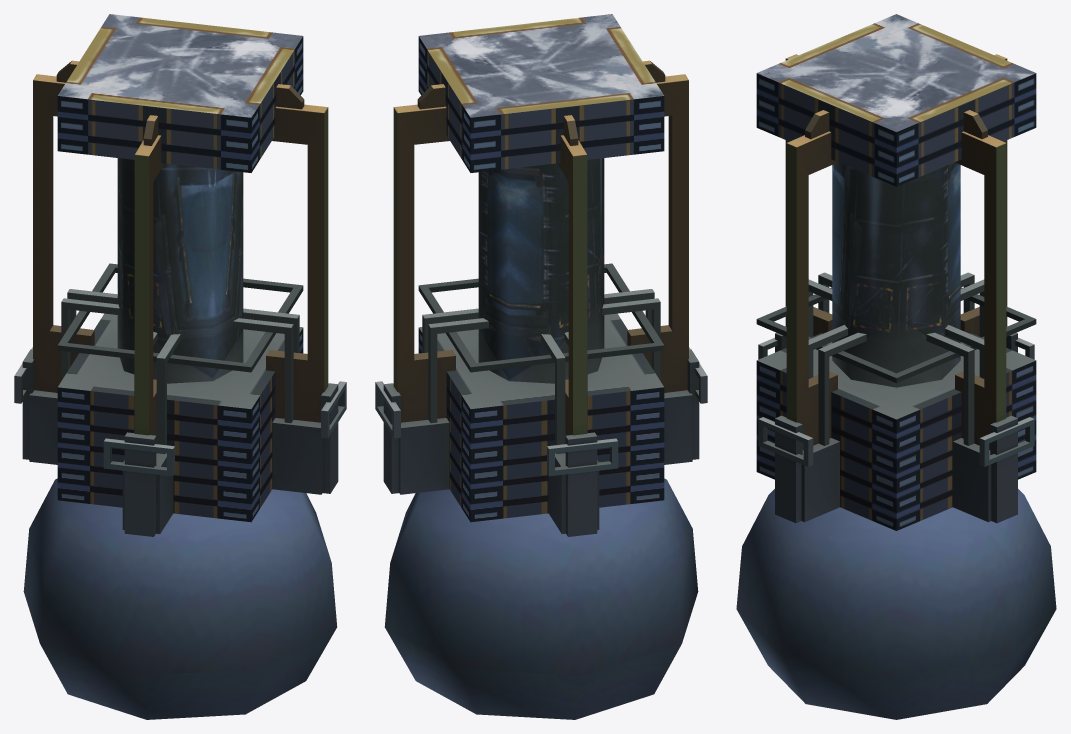
Rendered from trap_107_smpow.fbx.
The picture shows the model from 3 angles, left to right: view 1: azimuth 30°, elevation 25°; view 2: azimuth 150°, elevation 25°; view 3: azimuth 270°, elevation 25°; orthographic projection.
Parts seen in each view (by area): view 1: trap_107_smpow; view 2: trap_107_smpow; view 3: trap_107_smpow.
Boxes of the visible parts, x1,y1,x2,y2 form: trap_107_smpow: (14, 14, 346, 719); trap_107_smpow: (375, 14, 707, 719); trap_107_smpow: (736, 14, 1056, 719).
Size of the model in its own units: 0.8802 by 1.8 by 0.8802.
Materials: 1 (1 with a texture image).
